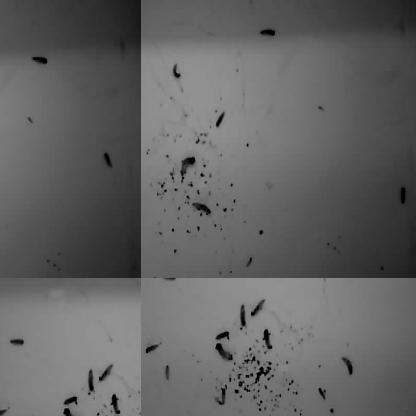PtecticusTenebrifer: (179, 156, 195, 178), (215, 344, 233, 362), (98, 363, 113, 383), (250, 298, 265, 318), (341, 356, 354, 377), (193, 201, 212, 215), (214, 110, 226, 128), (111, 393, 120, 415), (263, 328, 272, 350), (32, 54, 48, 66), (141, 387, 149, 409), (0, 159, 6, 188), (260, 28, 277, 38), (146, 342, 160, 354), (63, 395, 78, 406), (215, 330, 230, 341), (240, 305, 247, 328), (171, 64, 181, 80), (62, 408, 81, 416), (104, 152, 112, 170), (10, 337, 23, 348), (88, 370, 94, 393), (165, 364, 171, 386), (220, 387, 226, 405), (0, 219, 8, 232), (0, 397, 8, 410), (141, 332, 149, 345), (141, 2, 149, 14), (401, 185, 406, 204), (0, 278, 6, 293), (91, 278, 106, 284), (243, 278, 258, 284), (0, 154, 5, 169), (160, 0, 178, 4), (0, 88, 7, 98), (161, 278, 175, 283), (0, 24, 7, 33), (0, 407, 7, 416), (141, 278, 147, 288), (0, 137, 6, 146), (306, 278, 319, 282), (0, 0, 8, 6), (141, 187, 147, 195), (0, 206, 6, 213), (0, 278, 5, 283), (141, 278, 146, 283)
